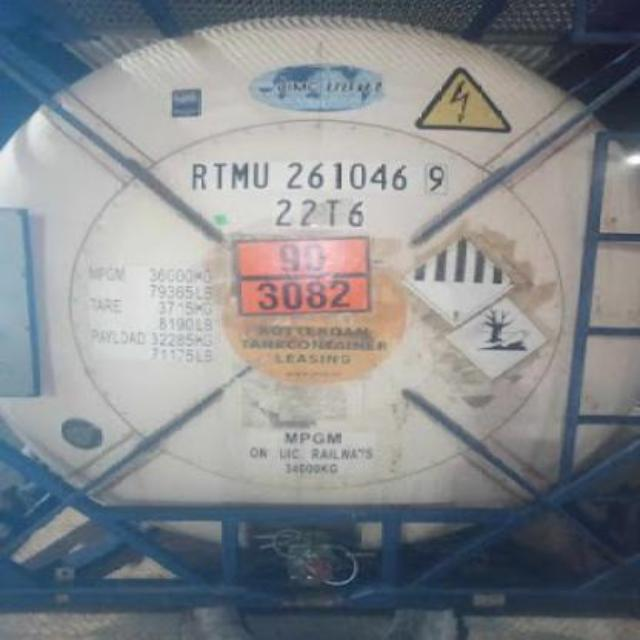0: (348, 154, 366, 194)
1: (328, 151, 344, 195)
2: (285, 153, 301, 191)
4: (370, 152, 386, 194)
6: (306, 152, 326, 192), (388, 156, 408, 196)
9: (424, 162, 444, 194)
M: (230, 156, 250, 194)
R: (190, 162, 206, 194)
T: (210, 158, 228, 192)
U: (252, 156, 270, 196)
